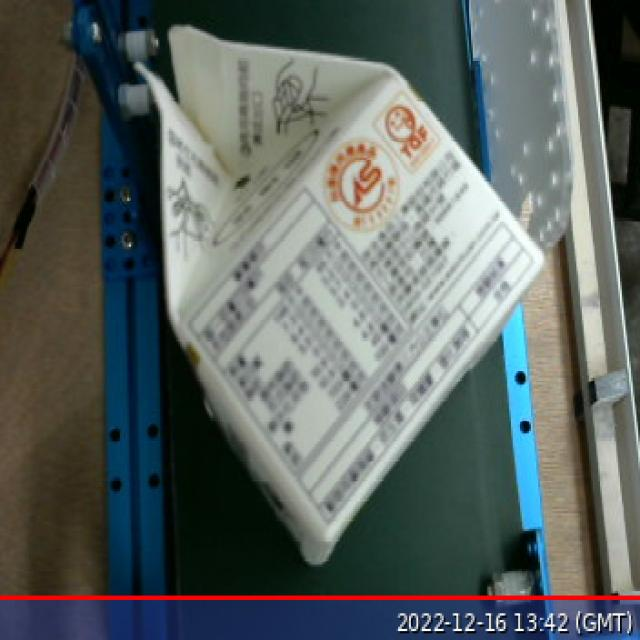non_white_jug: (128, 16, 557, 579)
